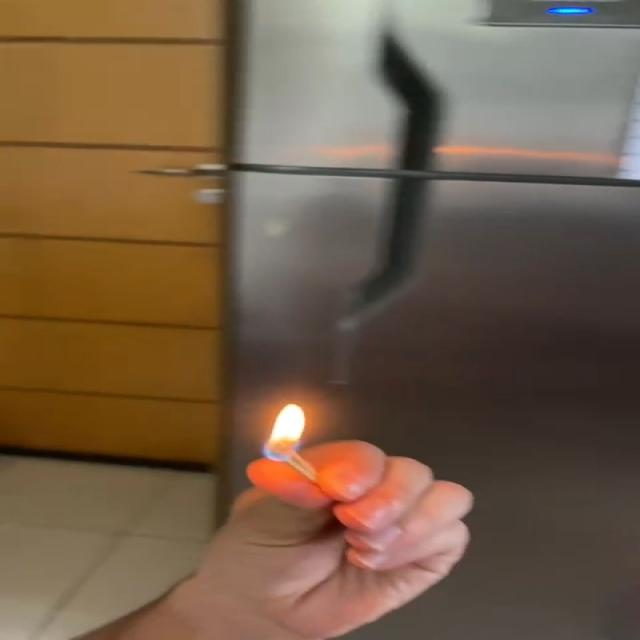fogo-ypXI: (260, 402, 308, 462)
